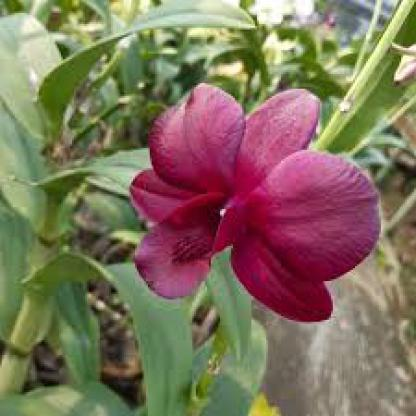ANGGREK: (129, 70, 384, 329)
